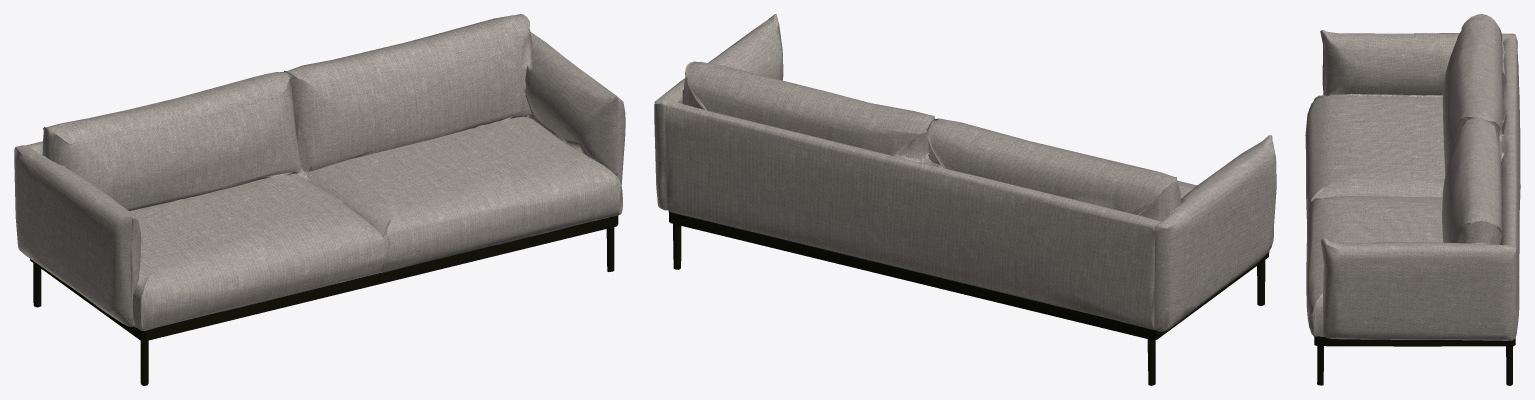
The model's file is 16-ÄPPLARYD 3 seater sofa - Lejde light grey (30506239).glb.
3 renders of one model, left to right at view 1: azimuth 30°, elevation 25°; view 2: azimuth 150°, elevation 25°; view 3: azimuth 270°, elevation 25°, orthographic. The views are drawn at different scales.
Parts seen in each view (by area): view 1: ProcessedMeshNode; view 2: ProcessedMeshNode; view 3: ProcessedMeshNode.
Part boxes in pixels (box(x1,y1,x2,y2)): ProcessedMeshNode: box(14, 14, 625, 385); ProcessedMeshNode: box(654, 14, 1276, 385); ProcessedMeshNode: box(1305, 14, 1520, 385).
Size of the model in its own units: 2.32 by 0.8234 by 0.9536.
Materials: 1 (1 with a texture image).
